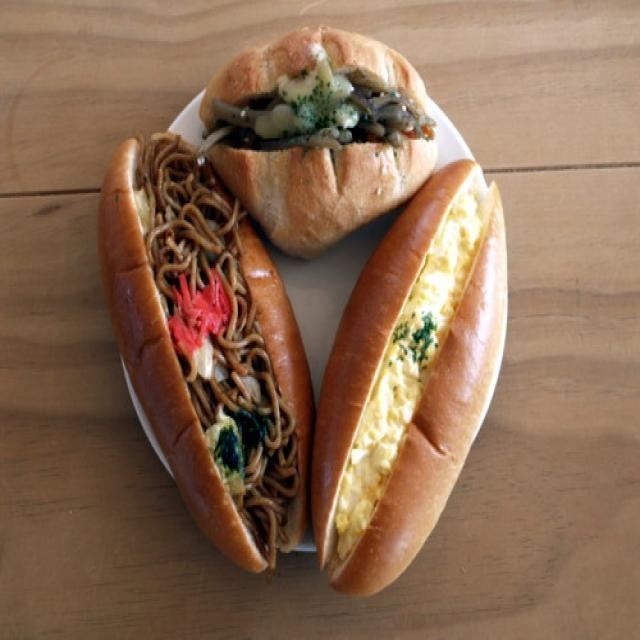三明治: (73, 94, 315, 582), (304, 181, 518, 601), (205, 34, 448, 256)
